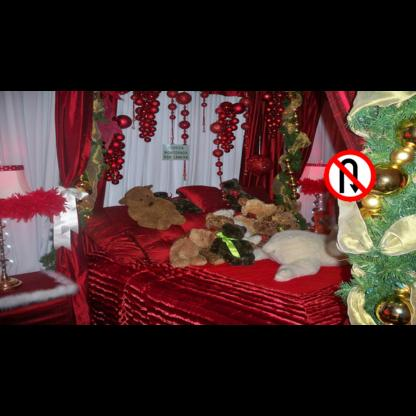I-E: (162, 144, 189, 160)
